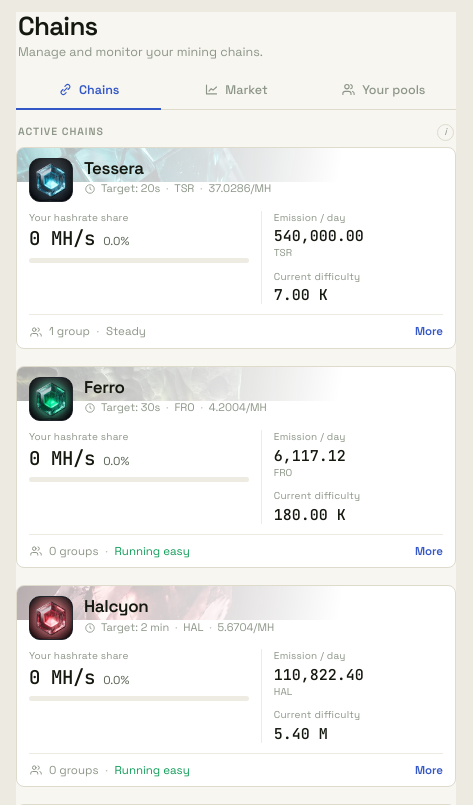
Test: ChainsView › renaming your pool from its expanded panel updates the store
Click the tab with class "segtab" showing "Your pools" at (383, 90), box [311, 71, 456, 110]
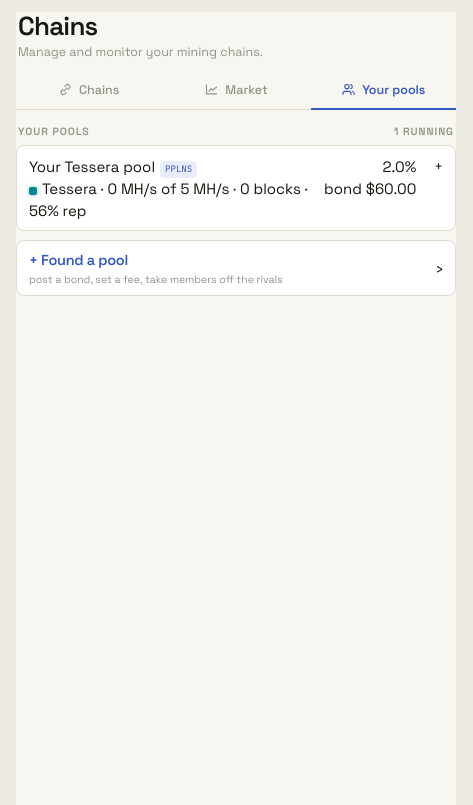
Click the button with class "rig-hd" at (236, 188), box [17, 146, 455, 230]
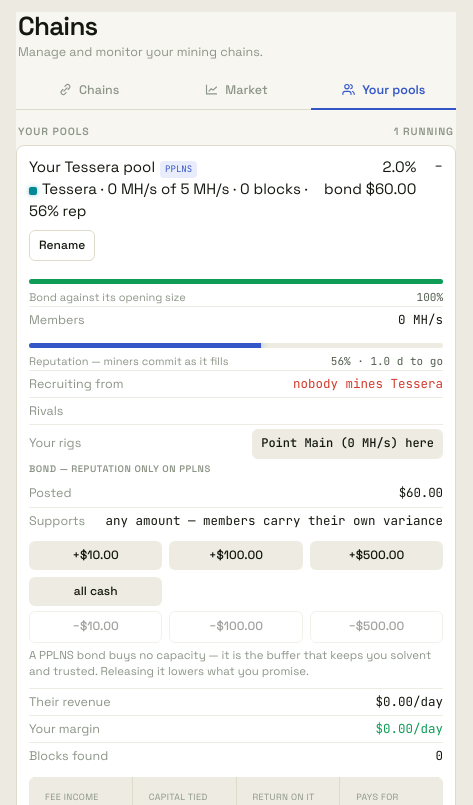
Click the button "Rename" at (62, 245), box [29, 230, 95, 261]
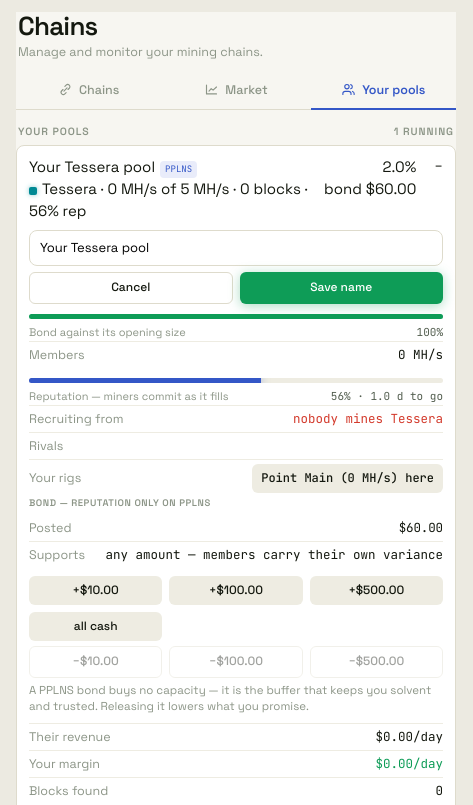
Replace the text in the field with placeholder "Pool name" with "Night Shift" at (236, 248), box [29, 230, 443, 266]
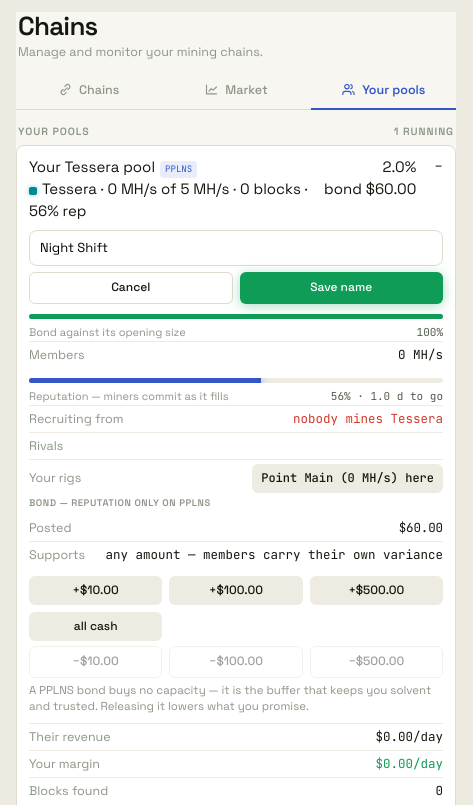
Click the button "Save name" at (341, 288), box [240, 272, 443, 304]
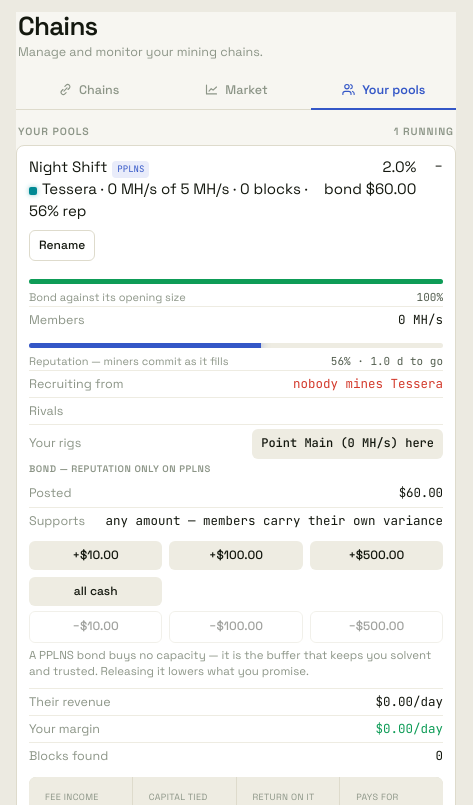
Expected: the text "Night Shift" is shown, [29, 157, 107, 176]
